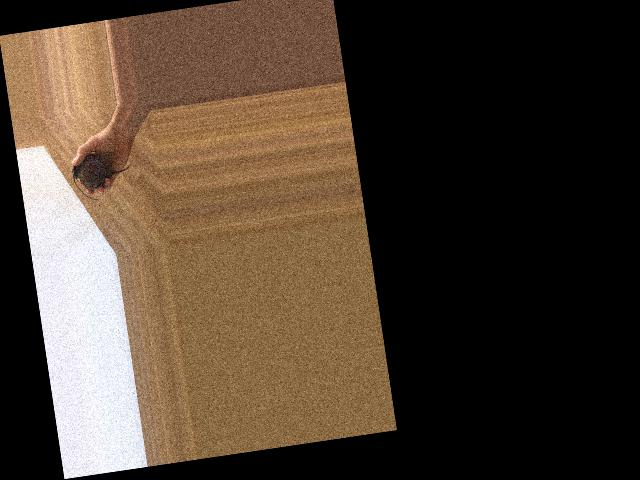beet: (69, 148, 135, 203)
